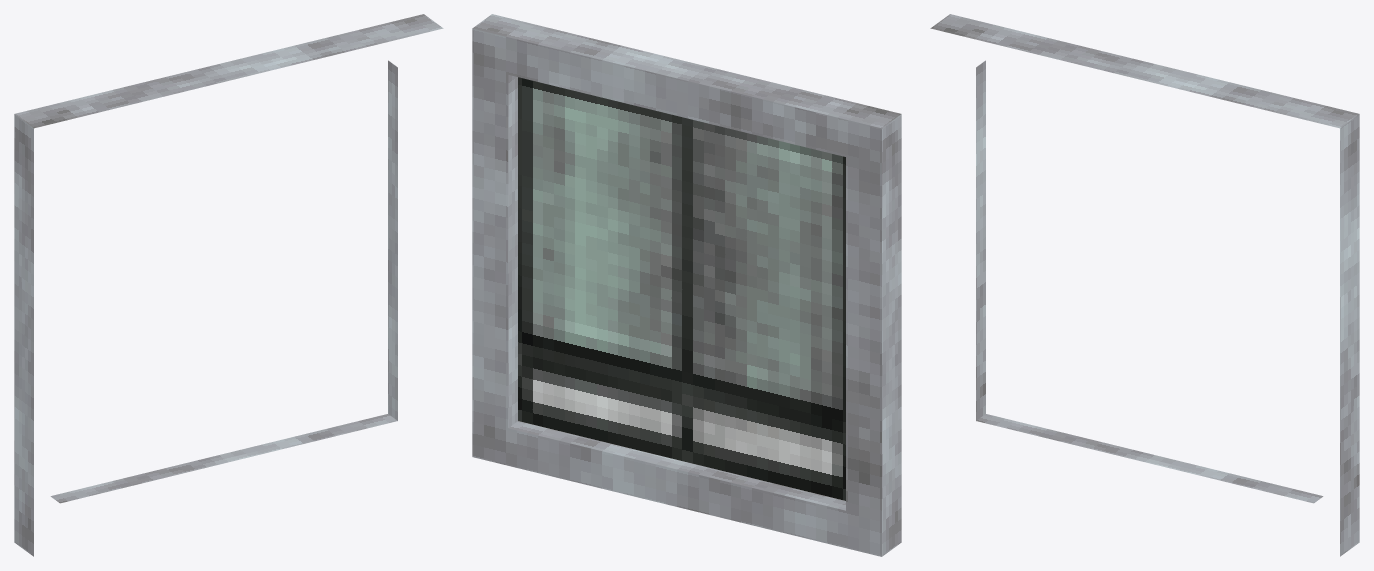
Rendered from window_wide_type_d.glb.
3 renders of one model, left to right at view 1: azimuth 30°, elevation 25°; view 2: azimuth 150°, elevation 25°; view 3: azimuth 330°, elevation 25°, orthographic.
Visible parts, largest first — view 1: window-wide-type-d; view 2: window-wide-type-d; view 3: window-wide-type-d.
Part boxes in pixels (x1,y1,x2,y2): window-wide-type-d: (14, 14, 443, 556); window-wide-type-d: (472, 14, 901, 556); window-wide-type-d: (930, 14, 1359, 556).
Size of the model in its own units: 0.5978 by 0.5978 by 0.05.
Materials: 2 (2 with a texture image).
